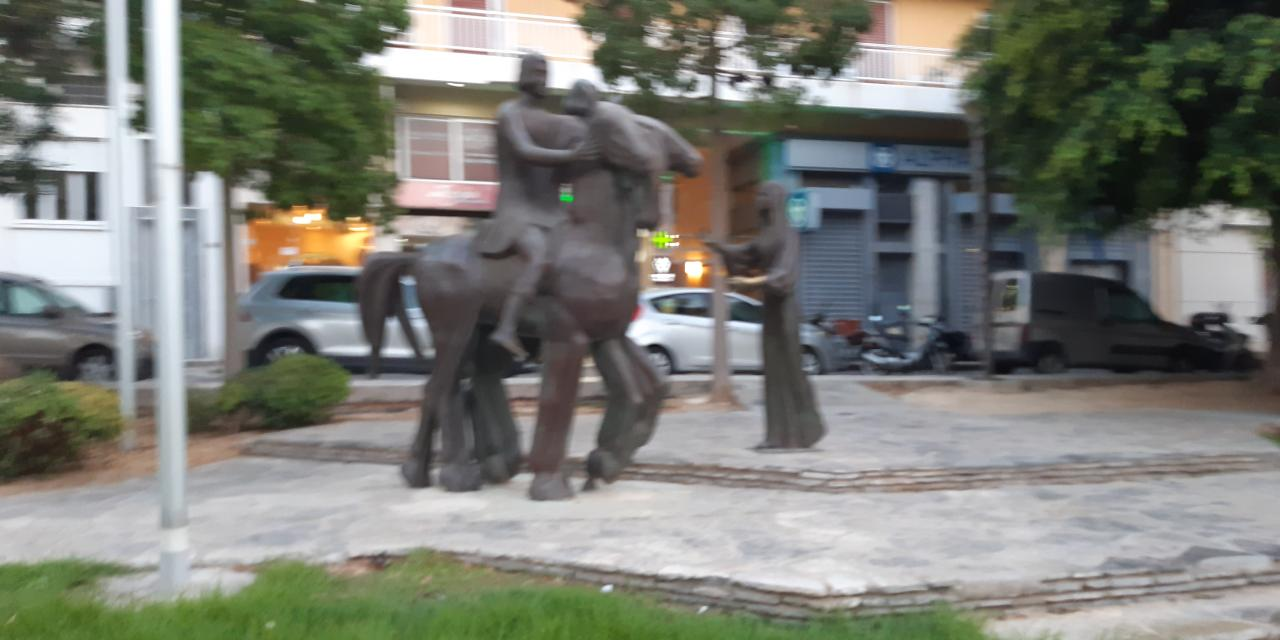Aretousa: (360, 53, 829, 504)
